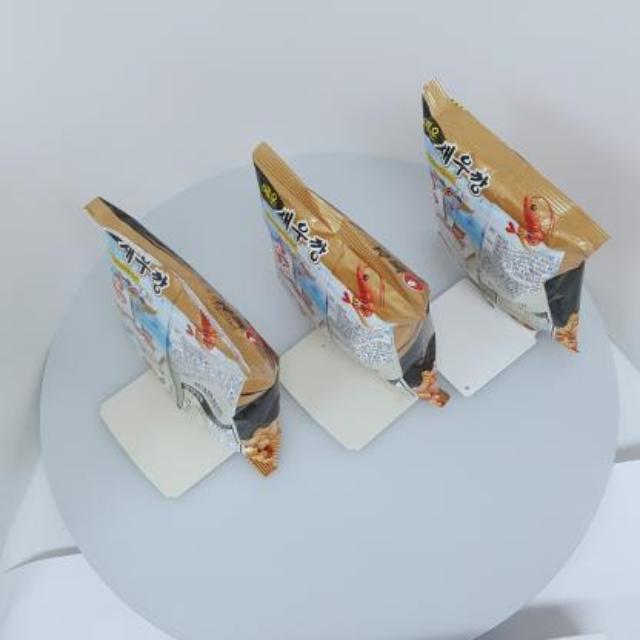snack_bag: (79, 70, 623, 486)
